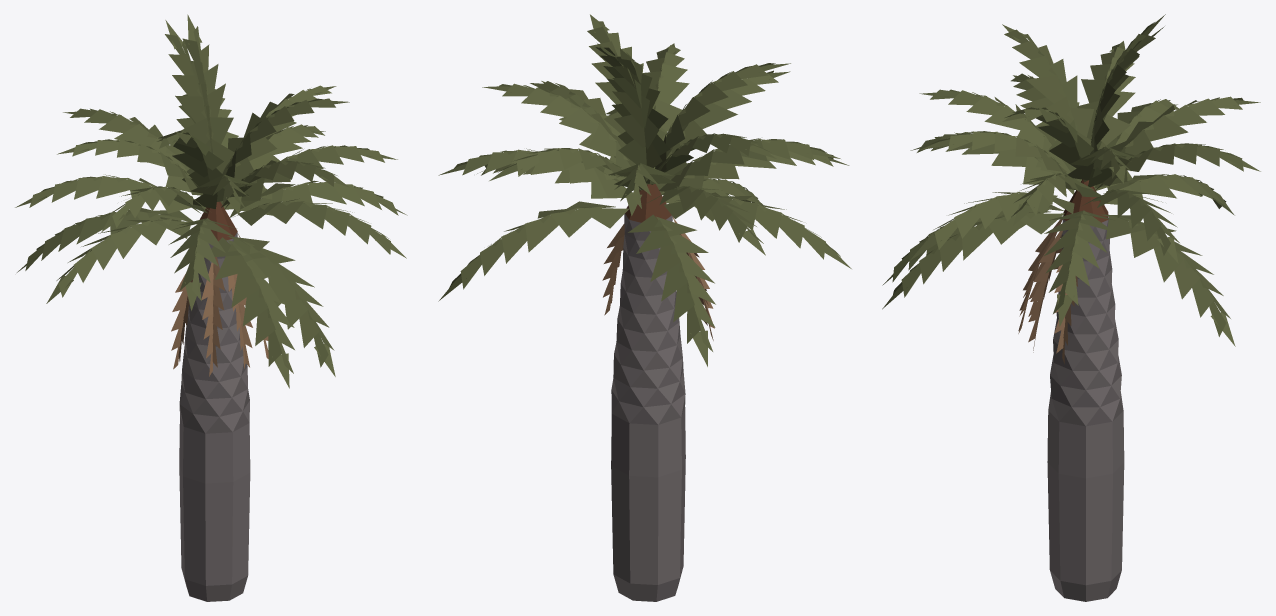
File: chilean-palm-45fef5.glb
3 renders of one model, left to right at view 1: azimuth 30°, elevation 25°; view 2: azimuth 150°, elevation 25°; view 3: azimuth 270°, elevation 25°, orthographic. The views are drawn at different scales.
Parts seen in each view (by area): view 1: chilean-palm-45fef5; view 2: chilean-palm-45fef5; view 3: chilean-palm-45fef5.
Part boxes in pixels (<box>): chilean-palm-45fef5: <box>15,14,407,601</box>; chilean-palm-45fef5: <box>438,14,851,601</box>; chilean-palm-45fef5: <box>882,14,1260,601</box>.
Bounding box in the file's own units: 8.35 × 12 × 7.26.
